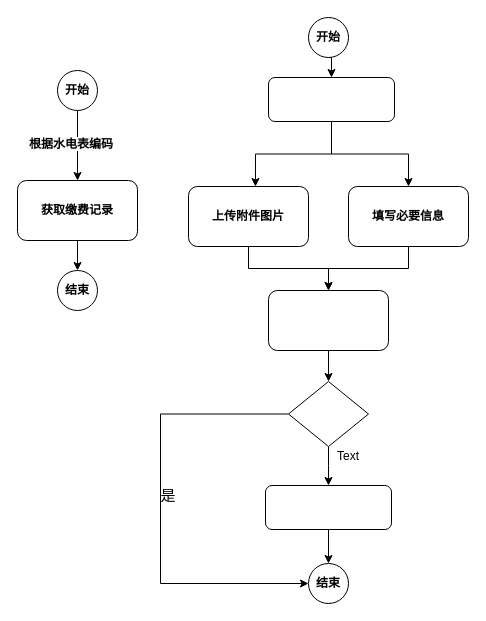
This 486x621 diagram has some shape labels left out. The shapes that lost their labels are listed below. From the top down, each one's box as (x1, y1, x2, y2) in pixels, then its label:
(268, 76, 394, 122): 新增
(268, 290, 388, 350): 组装数据
(288, 380, 368, 446): 插入年月记录是否已存在
(264, 484, 392, 530): 入库
